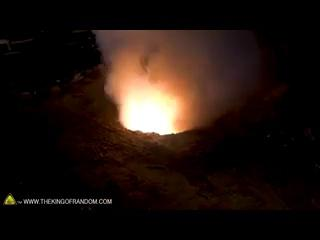Fire: (114, 71, 187, 134)
